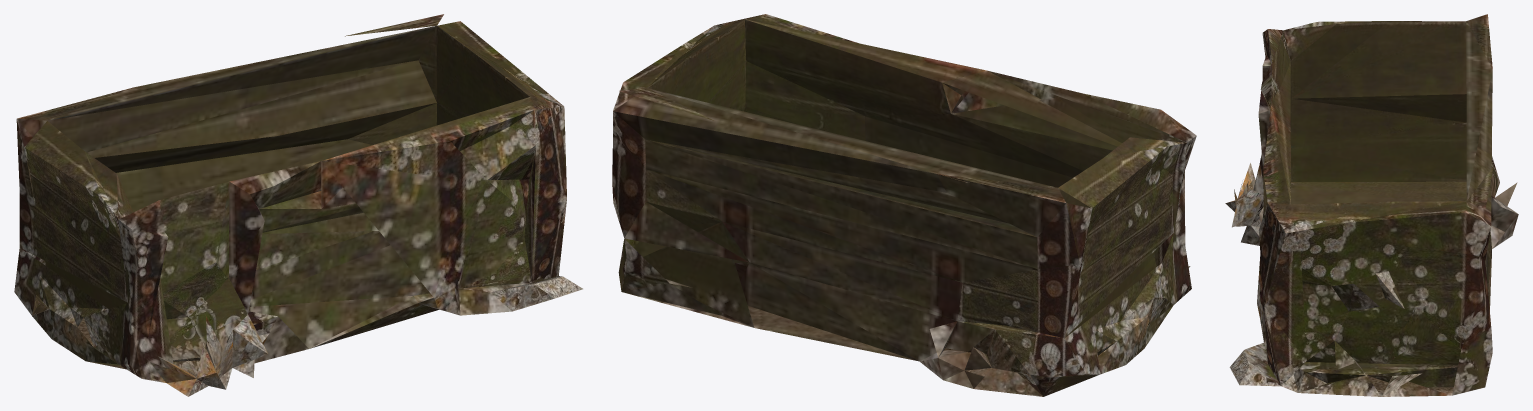
File: cofre.fbx
The picture shows the model from 3 angles, left to right: view 1: azimuth 30°, elevation 25°; view 2: azimuth 150°, elevation 25°; view 3: azimuth 270°, elevation 25°; orthographic projection. The views are drawn at different scales.
Visible parts, largest first — view 1: cofre; view 2: cofre; view 3: cofre.
Part boxes in pixels (box(x1,y1,x2,y2)): cofre: box(14, 14, 582, 396); cofre: box(612, 14, 1196, 396); cofre: box(1225, 14, 1518, 396).
Size of the model in its own units: 1.29 by 0.5159 by 0.7588.
1 material, 1 textured.
